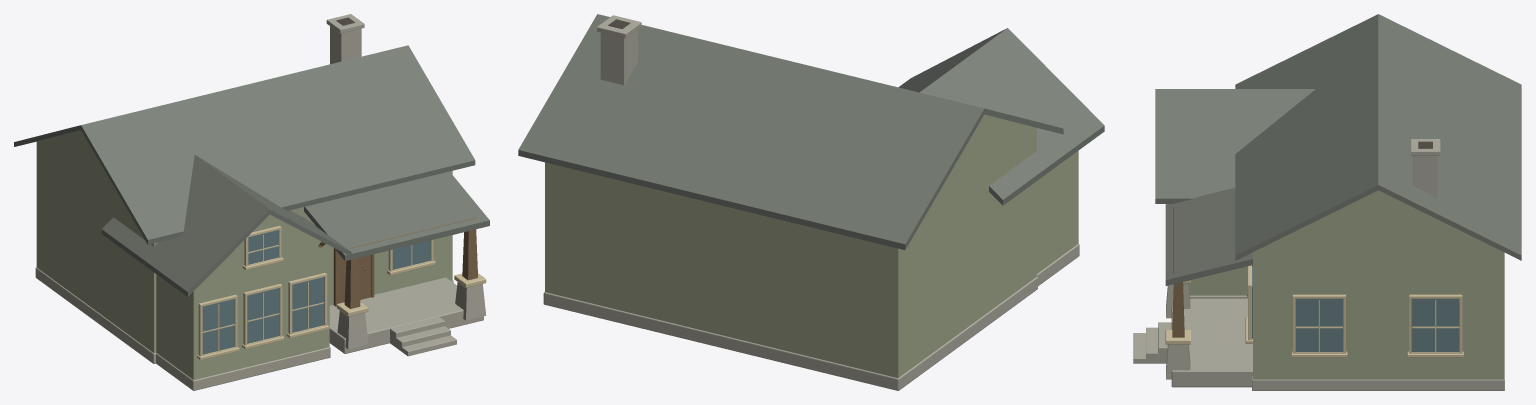
The model's file is medium_craftsman.glb.
The picture shows the model from 3 angles, left to right: view 1: azimuth 30°, elevation 25°; view 2: azimuth 150°, elevation 25°; view 3: azimuth 270°, elevation 25°; orthographic projection. The views are drawn at different scales.
Parts seen in each view (by area): view 1: Craftsman main closed pitched roof, Craftsman main closed gabled walls, Craftsman front wing closed gabled walls, Craftsman front wing closed pitched roof, Craftsman attached shed porch roof, Craftsman solid porch deck, Craftsman projecting gable foundation, Craftsman wing grouped sash inset pane.001, Craftsman wing grouped sash inset pane.002, Craftsman wing grouped sash inset pane, Craftsman main foundation, Craftsman side chimney chimney shaft (+11 smaller); view 2: Craftsman main closed gabled walls, Craftsman main closed pitched roof, Craftsman front wing closed pitched roof, Craftsman main foundation, Craftsman front wing closed gabled walls, Craftsman side chimney chimney shaft, Craftsman projecting gable foundation, Craftsman side chimney chimney cap; view 3: Craftsman main closed pitched roof, Craftsman main closed gabled walls, Craftsman front wing closed pitched roof, Craftsman attached shed porch roof, Craftsman solid porch deck, Craftsman main foundation, Craftsman right-side sash inset pane.001, Craftsman right-side sash inset pane, Craftsman front wing closed gabled walls, Craftsman side chimney chimney shaft, Craftsman tapered stone porch pier.001, Craftsman tapered porch column.001 (+5 smaller).
Boxes of the visible parts, bbox=[...] form: Craftsman main closed pitched roof: bbox=[14, 45, 475, 244]; Craftsman main closed gabled walls: bbox=[36, 130, 452, 353]; Craftsman front wing closed gabled walls: bbox=[156, 215, 329, 379]; Craftsman front wing closed pitched roof: bbox=[101, 155, 351, 296]; Craftsman attached shed porch roof: bbox=[304, 171, 489, 261]; Craftsman solid porch deck: bbox=[329, 277, 483, 353]; Craftsman projecting gable foundation: bbox=[156, 347, 330, 390]; Craftsman wing grouped sash inset pane.001: bbox=[247, 288, 279, 343]; Craftsman wing grouped sash inset pane.002: bbox=[292, 277, 324, 332]; Craftsman wing grouped sash inset pane: bbox=[202, 299, 234, 354]; Craftsman main foundation: bbox=[35, 267, 453, 363]; Craftsman side chimney chimney shaft: bbox=[330, 26, 361, 64]; Craftsman main closed gabled walls: bbox=[545, 114, 1036, 377]; Craftsman main closed pitched roof: bbox=[518, 14, 1063, 249]; Craftsman front wing closed pitched roof: bbox=[898, 28, 1104, 205]; Craftsman main foundation: bbox=[543, 276, 1037, 390]; Craftsman front wing closed gabled walls: bbox=[1037, 151, 1078, 273]; Craftsman side chimney chimney shaft: bbox=[600, 30, 637, 85]; Craftsman projecting gable foundation: bbox=[1037, 243, 1079, 285]; Craftsman side chimney chimney cap: bbox=[597, 15, 641, 38]; Craftsman main closed pitched roof: bbox=[1235, 14, 1521, 260]; Craftsman main closed gabled walls: bbox=[1253, 190, 1503, 379]; Craftsman front wing closed pitched roof: bbox=[1155, 89, 1315, 203]; Craftsman attached shed porch roof: bbox=[1165, 188, 1252, 285]; Craftsman solid porch deck: bbox=[1171, 298, 1252, 387]; Craftsman main foundation: bbox=[1252, 252, 1504, 390]; Craftsman right-side sash inset pane.001: bbox=[1411, 299, 1459, 352]; Craftsman right-side sash inset pane: bbox=[1295, 299, 1343, 352]; Craftsman front wing closed gabled walls: bbox=[1189, 266, 1247, 295]; Craftsman side chimney chimney shaft: bbox=[1413, 156, 1438, 197]; Craftsman tapered stone porch pier.001: bbox=[1166, 344, 1190, 379]; Craftsman tapered porch column.001: bbox=[1172, 282, 1184, 337].
Size of the model in its own units: 10.96 by 6.94 by 10.52.
